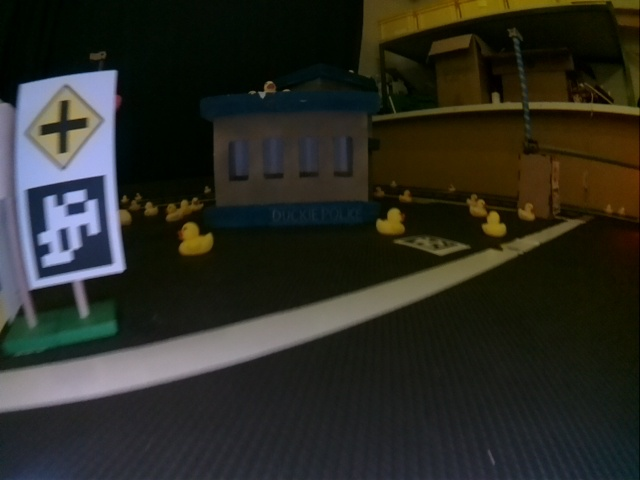Duckie: (178, 224, 210, 253), (377, 209, 406, 233), (485, 212, 505, 236), (520, 204, 535, 219), (403, 189, 415, 204), (144, 202, 157, 215)
Intersection sign: (27, 85, 107, 169)
QR code: (33, 178, 113, 278), (393, 235, 471, 256)
